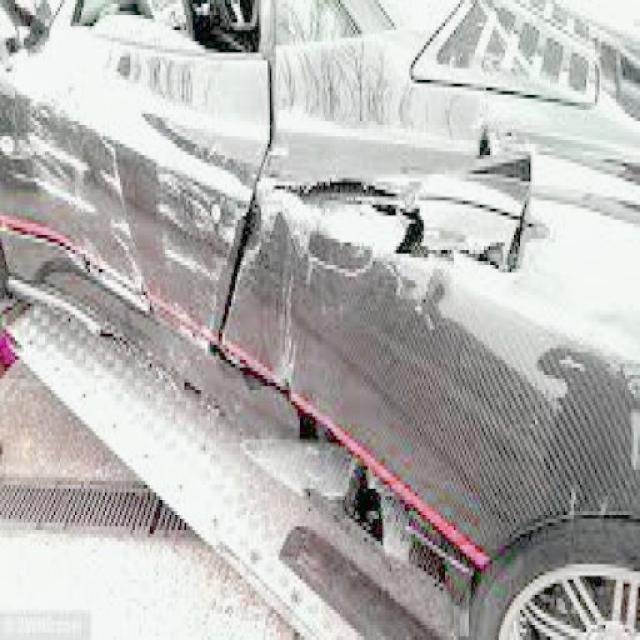car damage: (6, 24, 557, 439)
